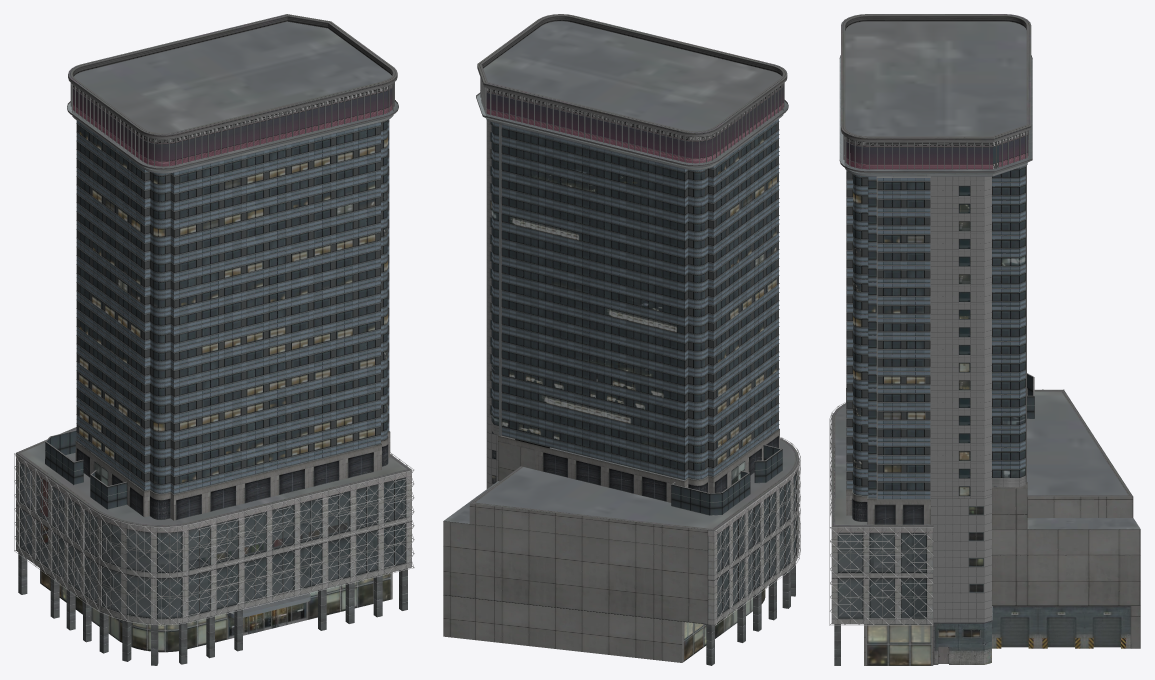
File: sing.glb
3 renders of one model, left to right at view 1: azimuth 30°, elevation 25°; view 2: azimuth 150°, elevation 25°; view 3: azimuth 270°, elevation 25°, orthographic. The views are drawn at different scales.
Visible parts, largest first — view 1: Cube.003_4, Cube.009_3, Cube.004_2, Cube.027_5, Cube.001_1, Cube.002_7, Cube.036_6; view 2: Cube.003_4, Cube.001_1, Cube.009_3, Cube.002_7, Cube.004_2, Cube.036_6, Cube.027_5; view 3: Cube.003_4, Cube.001_1, Cube.009_3, Cube.027_5, Cube.002_7, Cube.004_2.
Boxes of the visible parts, left/top/right/bottom form: Cube.003_4: left=16, top=14, right=411, bottom=665; Cube.009_3: left=20, top=462, right=405, bottom=618; Cube.004_2: left=14, top=452, right=414, bottom=625; Cube.027_5: left=24, top=468, right=398, bottom=616; Cube.001_1: left=40, top=431, right=392, bottom=599; Cube.002_7: left=41, top=132, right=389, bottom=634; Cube.036_6: left=20, top=464, right=404, bottom=618; Cube.003_4: left=444, top=14, right=798, bottom=665; Cube.001_1: left=443, top=429, right=779, bottom=662; Cube.009_3: left=717, top=470, right=797, bottom=615; Cube.002_7: left=491, top=139, right=776, bottom=659; Cube.004_2: left=715, top=437, right=800, bottom=625; Cube.036_6: left=717, top=476, right=797, bottom=615; Cube.027_5: left=515, top=439, right=783, bottom=611; Cube.003_4: left=831, top=14, right=1140, bottom=665; Cube.001_1: left=846, top=388, right=1140, bottom=665; Cube.009_3: left=838, top=533, right=926, bottom=618; Cube.027_5: left=838, top=533, right=925, bottom=616; Cube.002_7: left=853, top=193, right=1025, bottom=664; Cube.004_2: left=829, top=389, right=1064, bottom=625.
Size of the model in its own units: 59.28 by 106 by 56.44.
7 materials, 6 textured.
